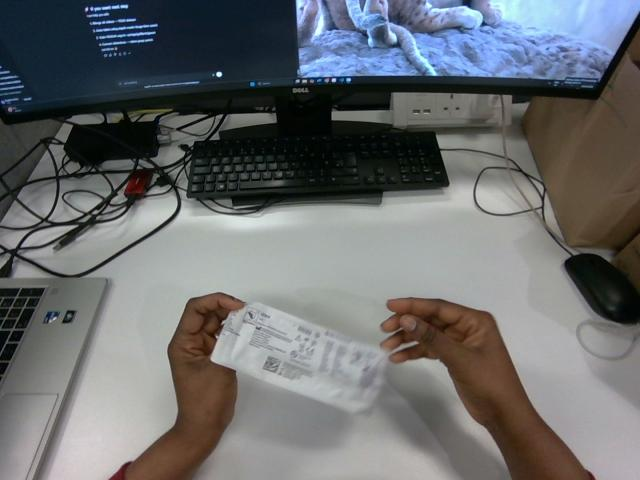syringe: (211, 303, 386, 412)
